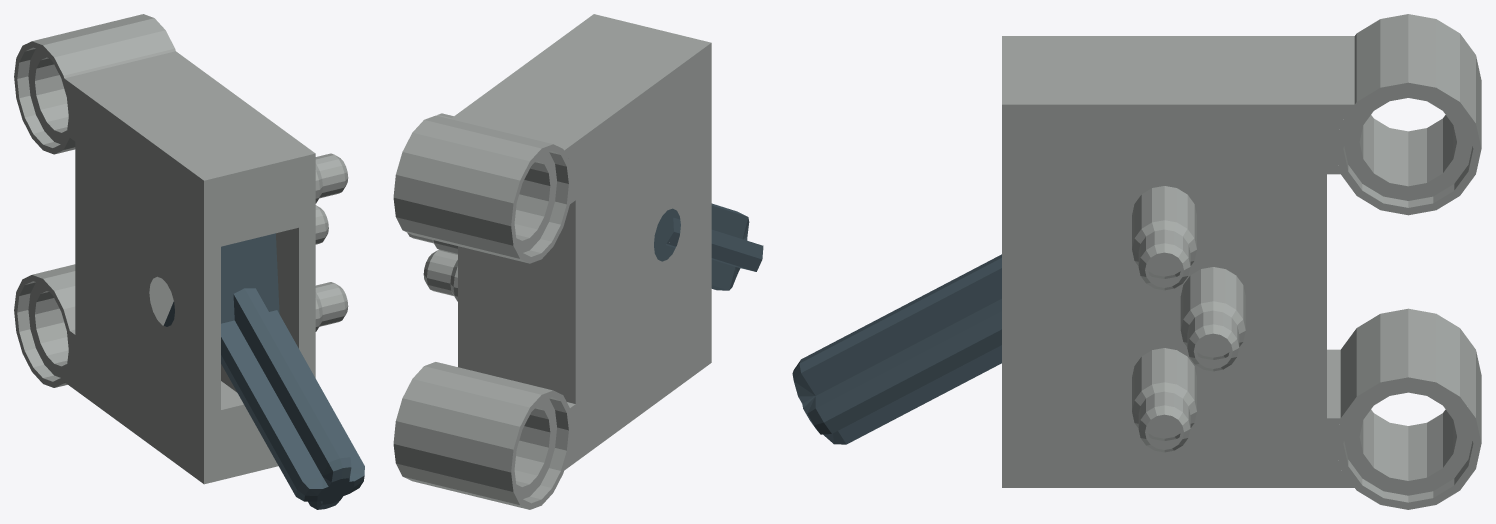
3 views of the same model, side by side, from view 1: azimuth 30°, elevation 25°; view 2: azimuth 150°, elevation 25°; view 3: azimuth 270°, elevation 25° (orthographic). The views are drawn at different scales.
Parts seen in each view (by area): view 1: world; view 2: world; view 3: world.
Part boxes in pixels (x1,y1,x2,y2): world: [14, 14, 364, 509]; world: [393, 14, 763, 509]; world: [792, 14, 1481, 509].
Size of the model in its own units: 0.0144 by 0.0232 by 0.0339.
